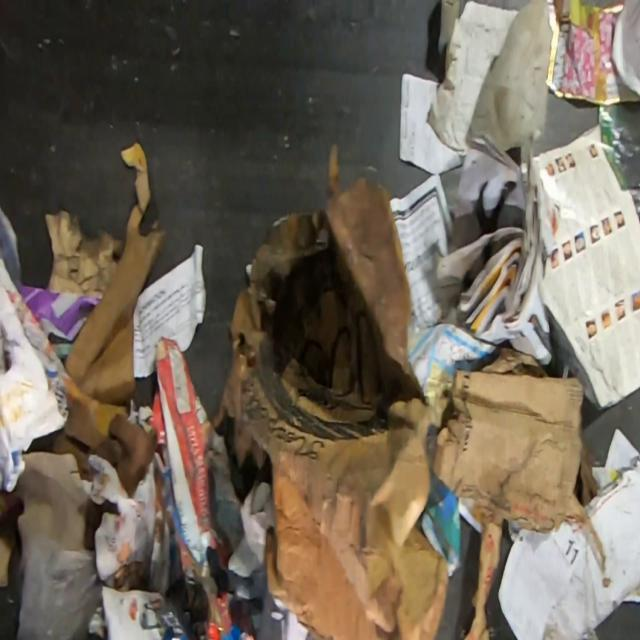cardboard: (210, 143, 450, 639), (433, 346, 606, 639), (63, 142, 166, 451), (145, 334, 233, 640), (14, 450, 87, 558), (44, 209, 124, 298)
soft_plastic: (544, 0, 640, 108), (14, 533, 103, 639)
